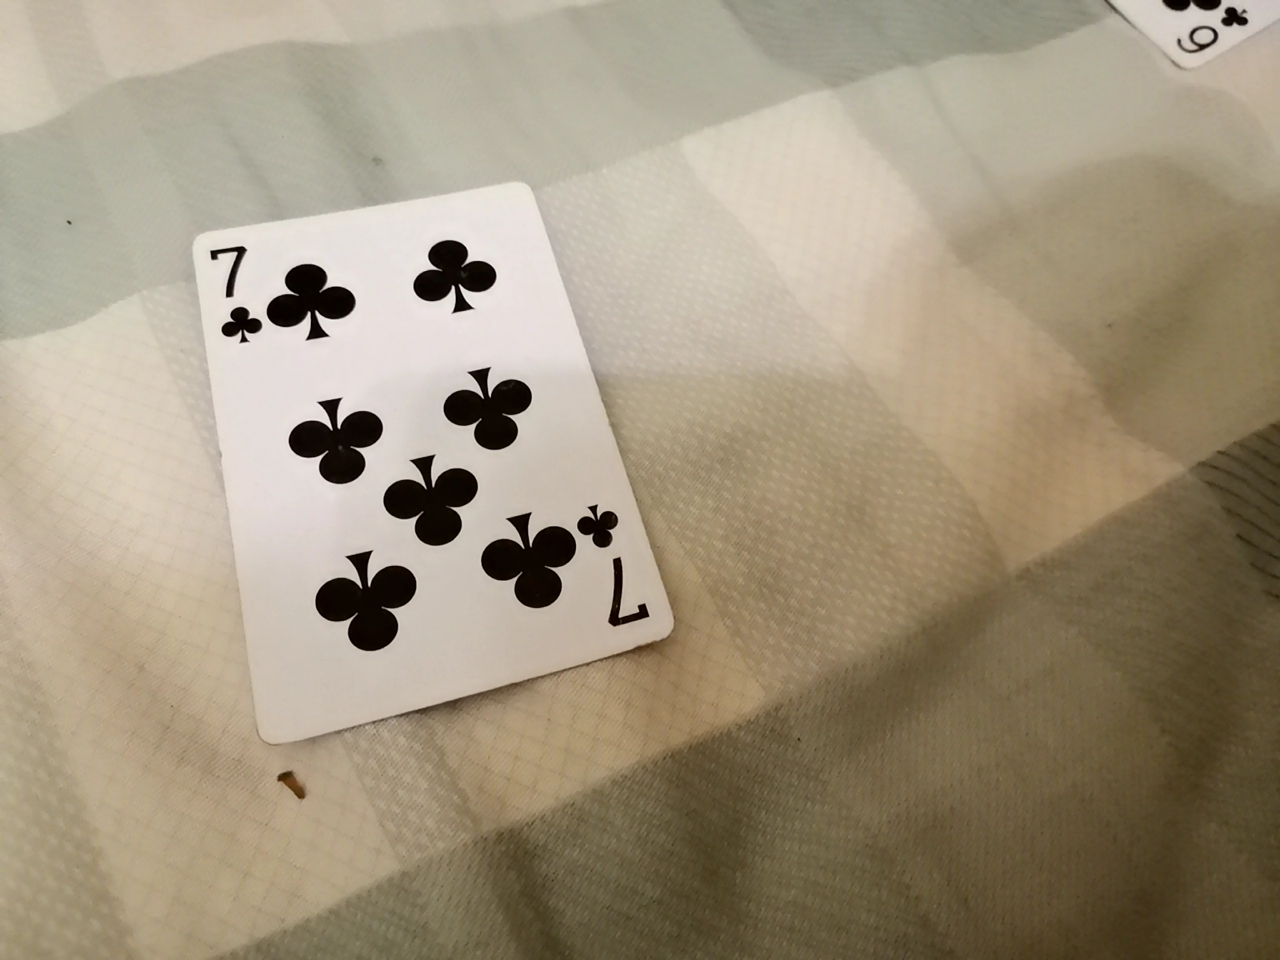mh 7: (191, 179, 637, 744)
